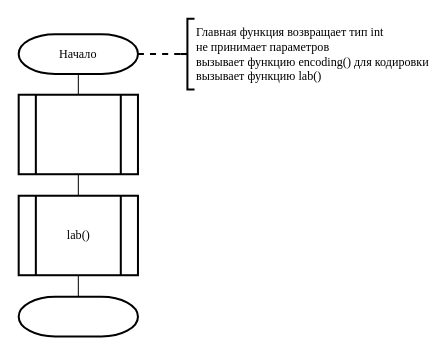
Image size: 446x355. Some labels were removed from this diagram. The shapes that lost their labels are listed below. From the top down, each one's centre as x and y in pixels, then its label:
At (77,134): "encoding()".
At (77,316): "Конец".
